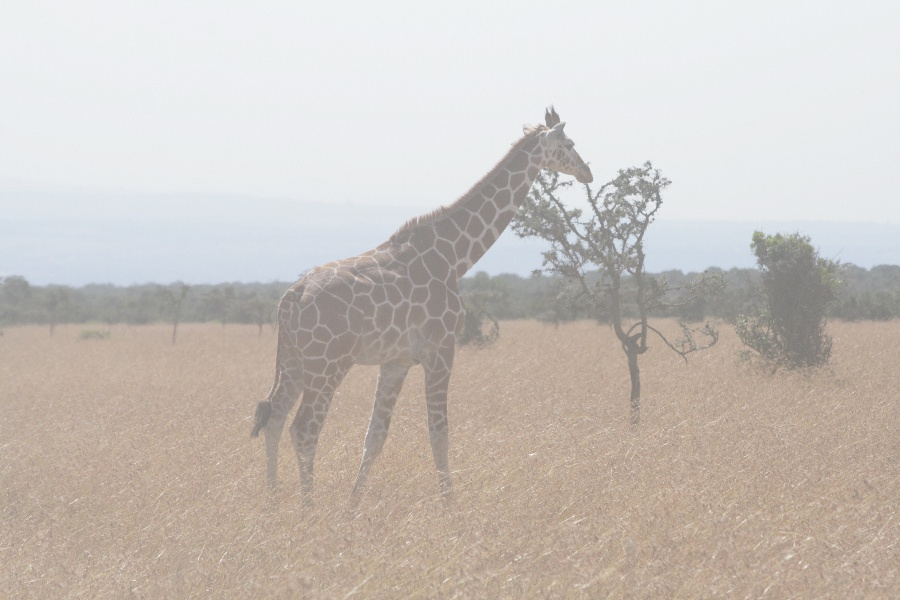giraffe: (228, 97, 616, 510)
